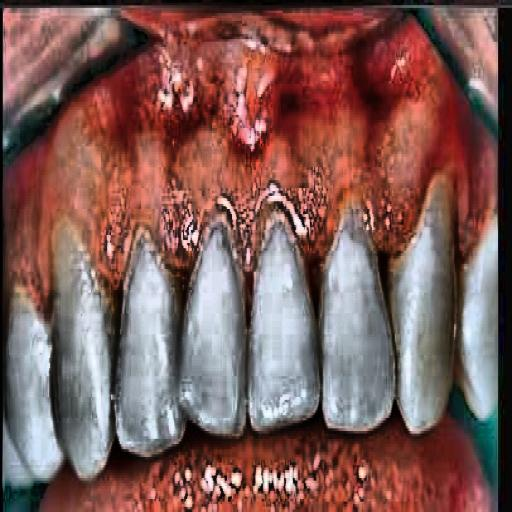Gingivitis: (7, 43, 496, 288)
